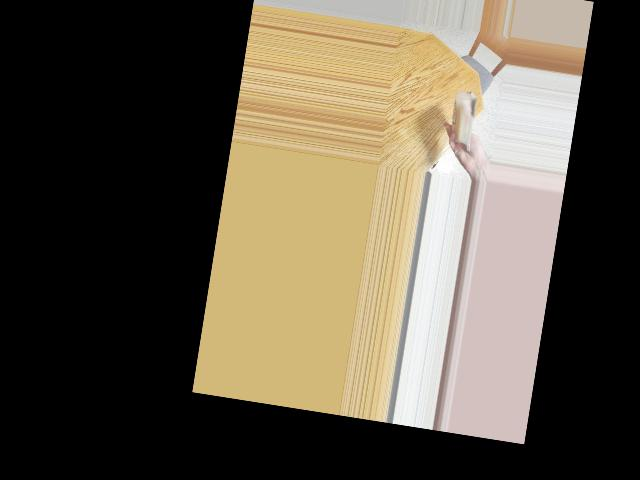cheese: (446, 93, 488, 149)
